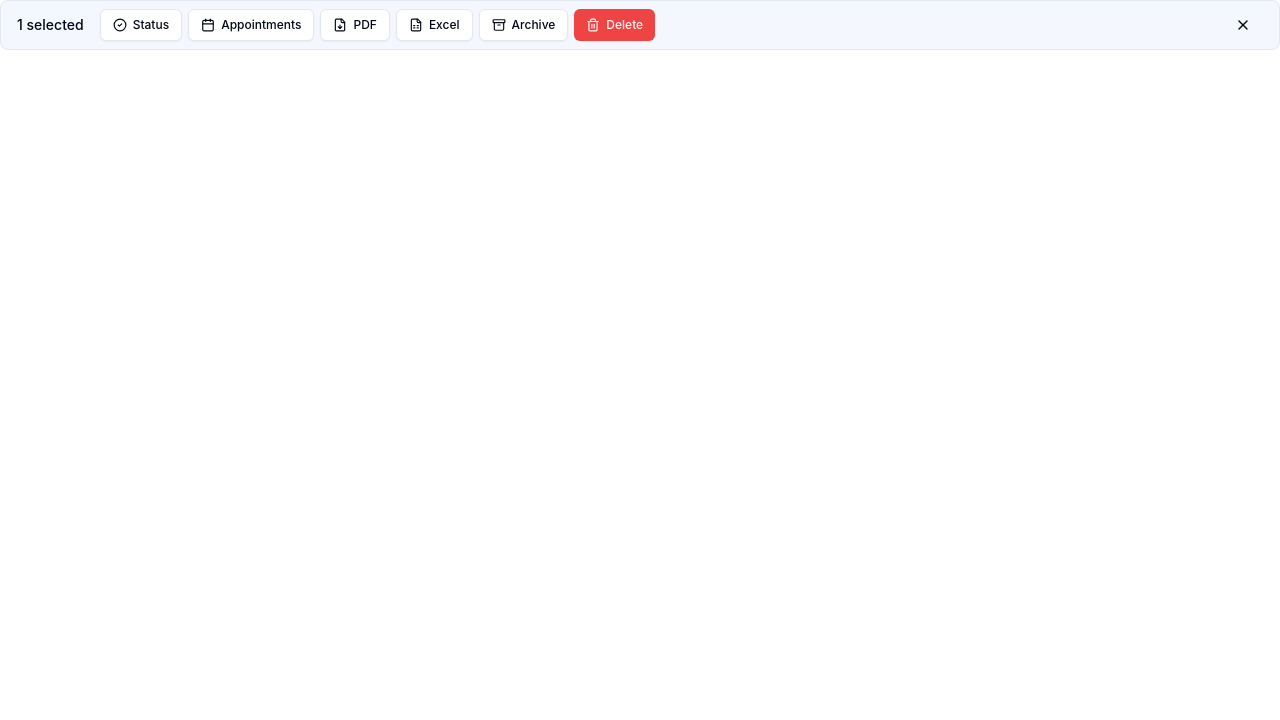
BulkActionToolbar › opens appointment dialog on Appointment click
Click the button "Appointments": click(251, 25) [188, 9, 314, 41]
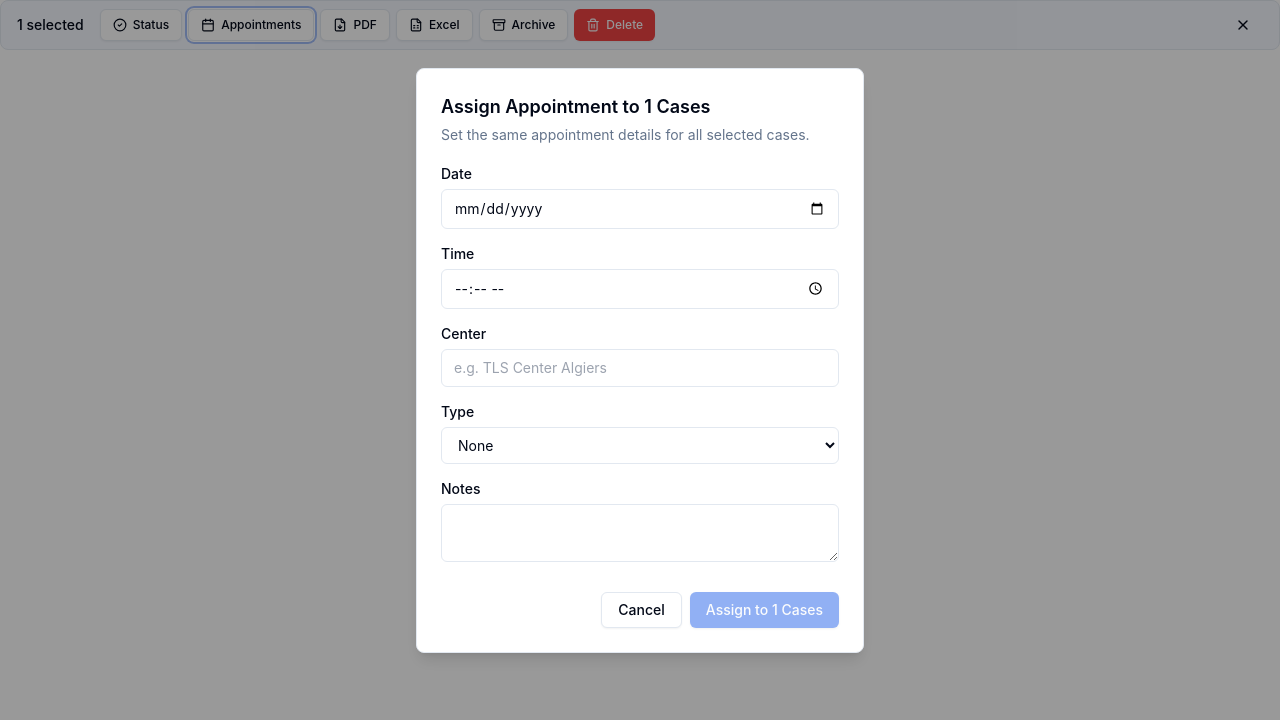
Check: the heading "Assign Appointment to 1 Cases" is shown, box [441, 96, 710, 116]
